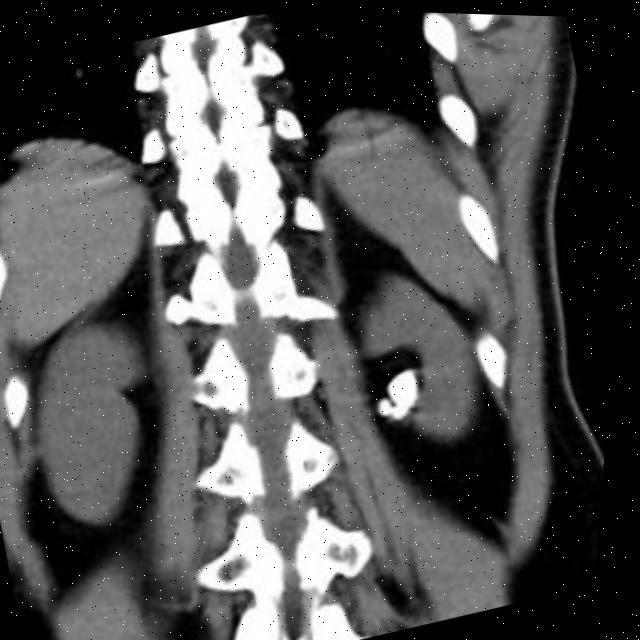Tas_Var: (381, 355, 438, 412), (396, 393, 420, 419), (381, 390, 403, 418)
